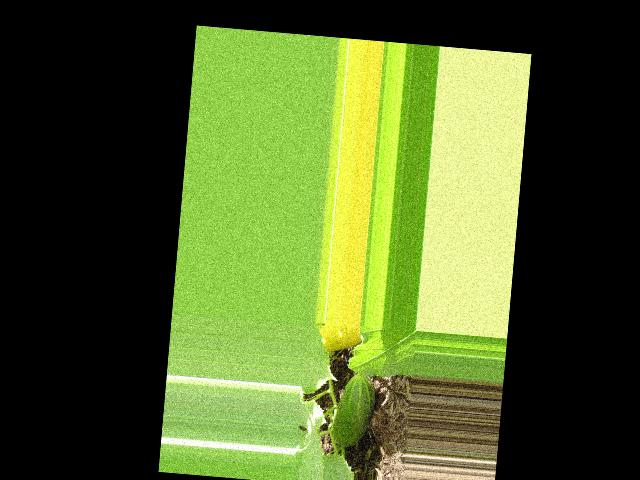cucumber: (331, 372, 378, 449)
